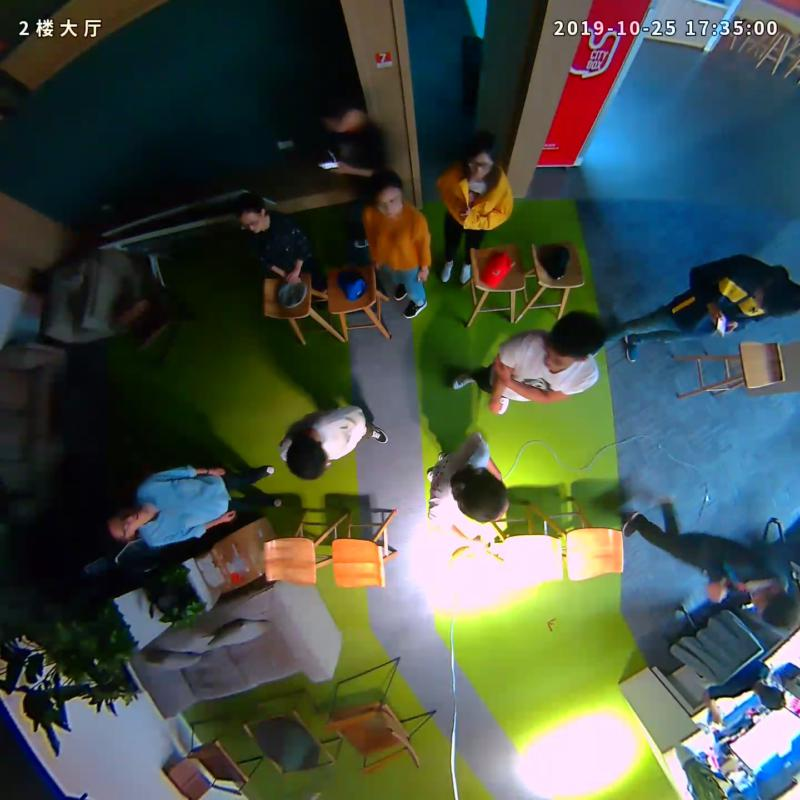head: (541, 311, 606, 373), (452, 466, 510, 525), (752, 275, 800, 323), (751, 582, 800, 627), (94, 506, 151, 544), (286, 434, 329, 480), (464, 131, 500, 182), (367, 169, 403, 218), (315, 95, 358, 135), (232, 193, 268, 235)
